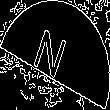N_SW: (34, 24, 76, 86)
